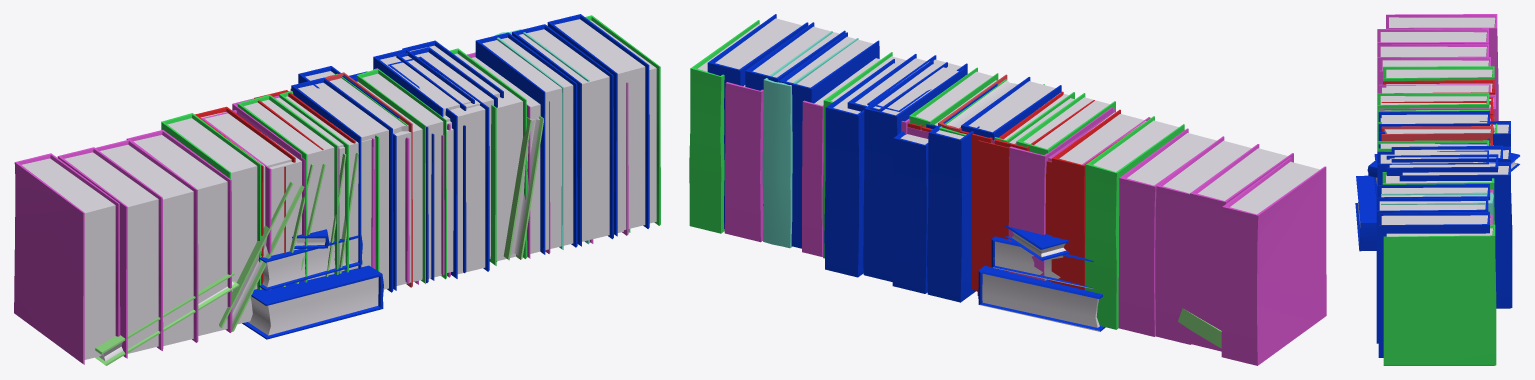
The model's file is bookstacks_horizontal.fbx.
3 views of the same model, side by side, from view 1: azimuth 30°, elevation 25°; view 2: azimuth 150°, elevation 25°; view 3: azimuth 270°, elevation 25° (orthographic). The views are drawn at different scales.
Parts seen in each view (by area): view 1: stack6, stack2, stack5, stack1, stack3, stack4; view 2: stack6, stack1, stack2, stack5, stack3, stack4; view 3: stack6, stack2, stack1, stack5, stack3, stack4.
Part boxes in pixels (<box>): stack6: <box>14,15,660,364</box>; stack2: <box>95,14,649,365</box>; stack5: <box>237,68,446,283</box>; stack1: <box>242,40,503,339</box>; stack3: <box>202,68,450,290</box>; stack4: <box>254,89,451,252</box>; stack6: <box>689,20,1326,365</box>; stack1: <box>824,59,1105,331</box>; stack2: <box>707,14,1221,348</box>; stack5: <box>909,67,1115,154</box>; stack3: <box>901,107,1150,280</box>; stack4: <box>907,91,1094,290</box>; stack6: <box>1377,14,1498,365</box>; stack2: <box>1376,110,1498,357</box>; stack1: <box>1355,121,1519,308</box>; stack5: <box>1377,92,1497,151</box>; stack3: <box>1379,84,1495,151</box>; stack4: <box>1381,101,1492,145</box>.
Size of the model in its own units: 91.91 by 25.79 by 28.05.
